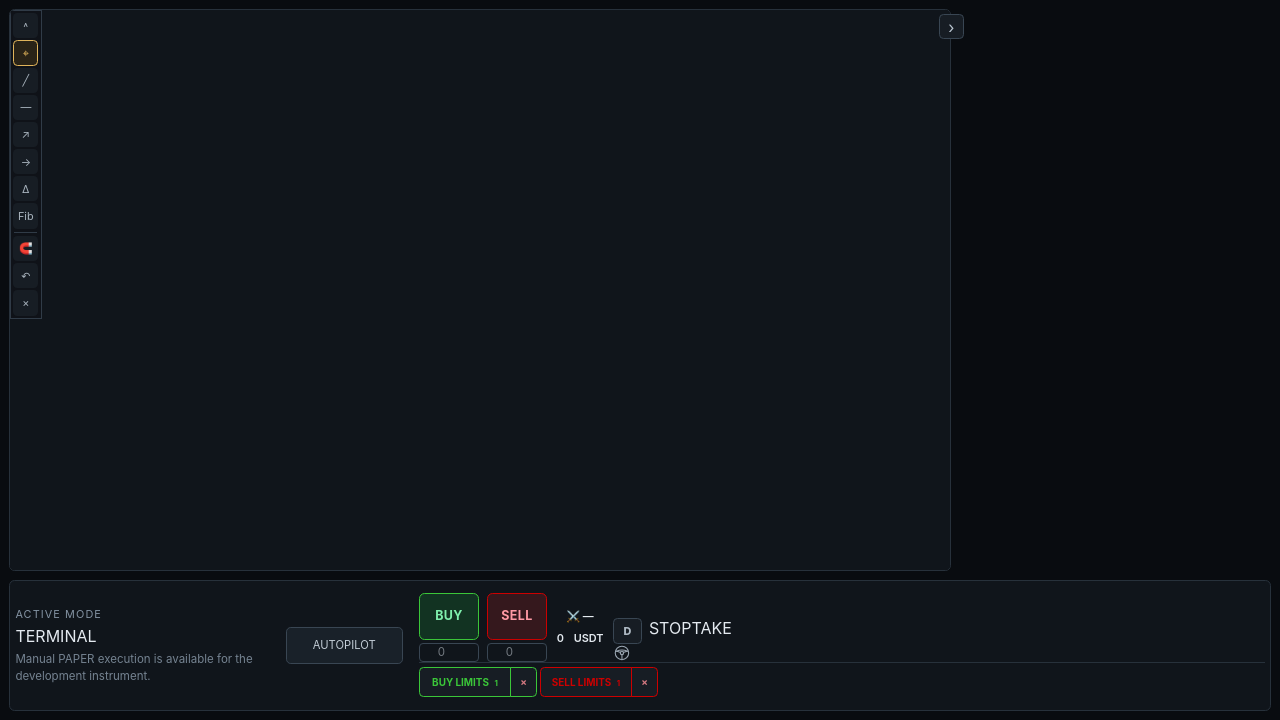
Scenario: never falls back to PAPER on unknown
The width and height of the screenshot is (1280, 720).
Step 1. Click the button named "Cancel all Buy Limit orders for ONGUSDT" → x=524, y=682, box [510, 667, 537, 697]
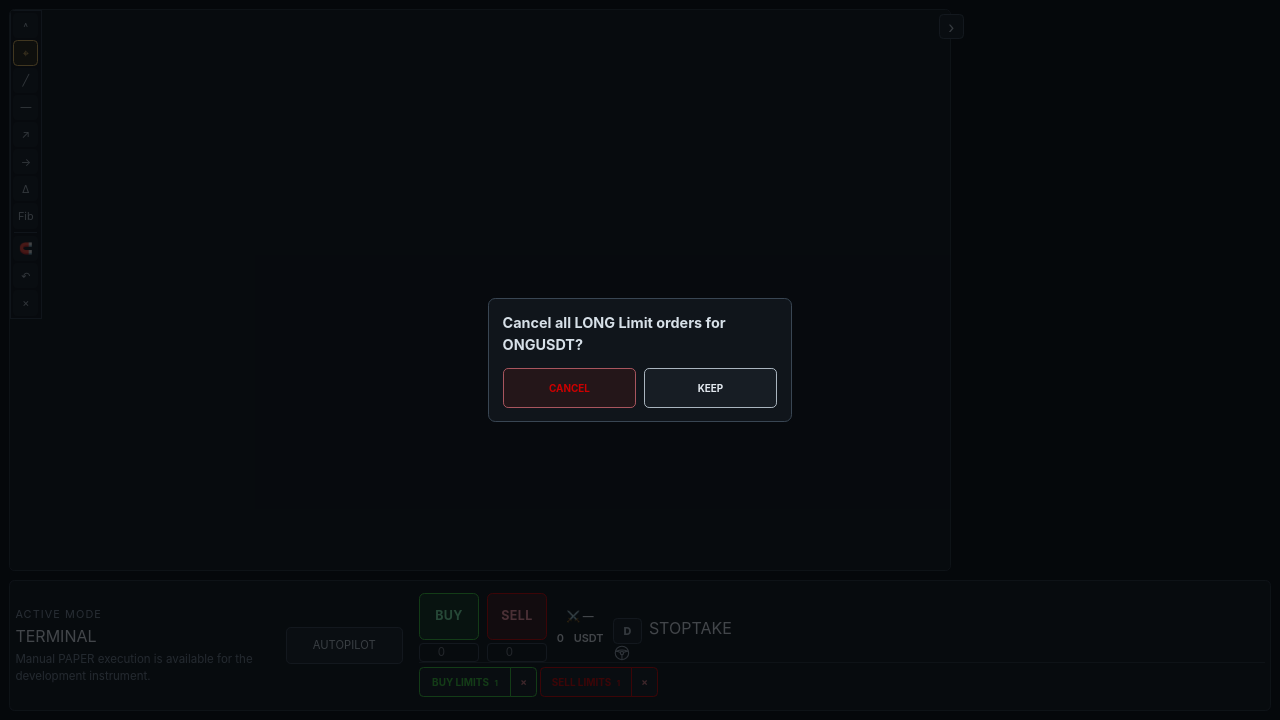
Step 2. Click the button "CANCEL" → x=570, y=388, box [503, 368, 636, 408]
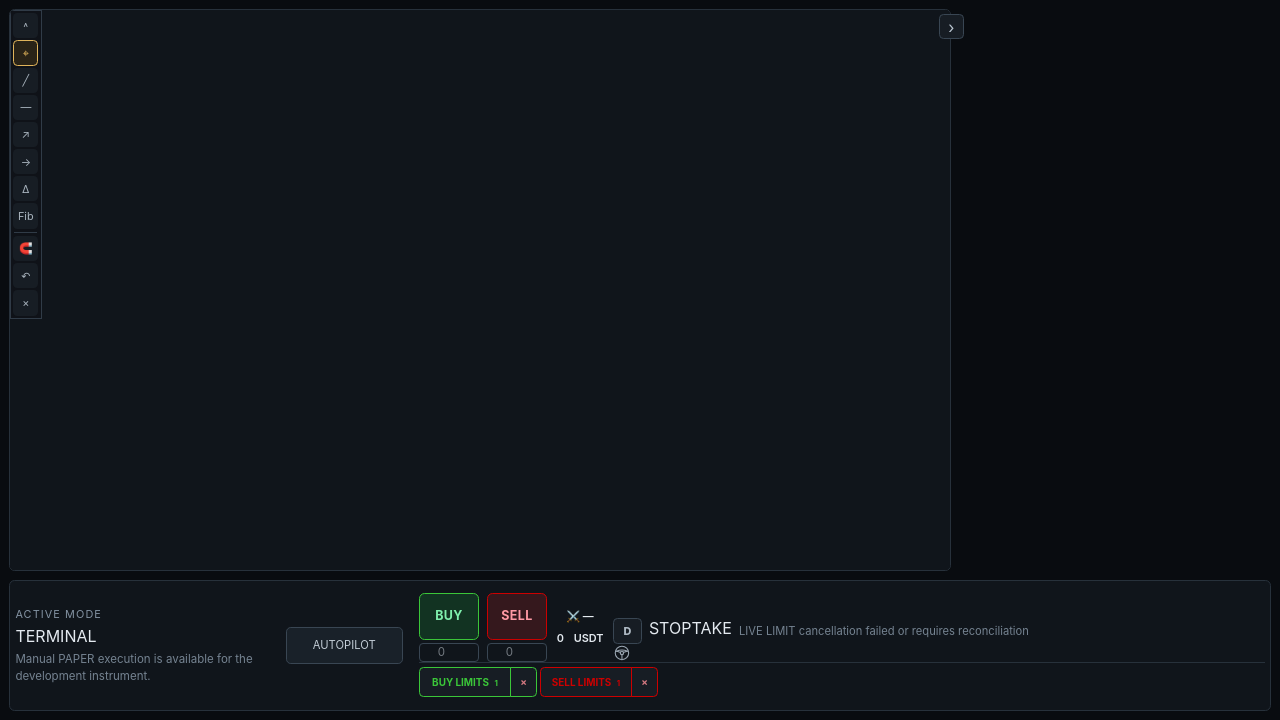
Result: the text "LIVE LIMIT cancellation failed or requires reconciliation" is shown at [739, 623, 1029, 640]
